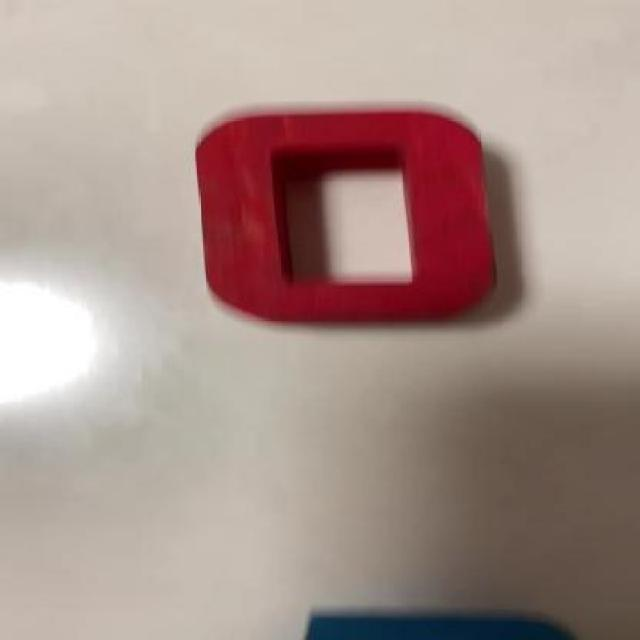O: (194, 108, 500, 327)
